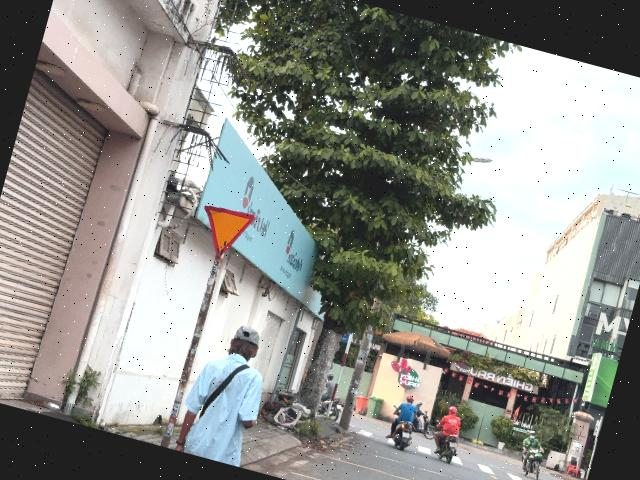giao-nhau-voi-duong-uu-tien: (192, 201, 257, 264)
